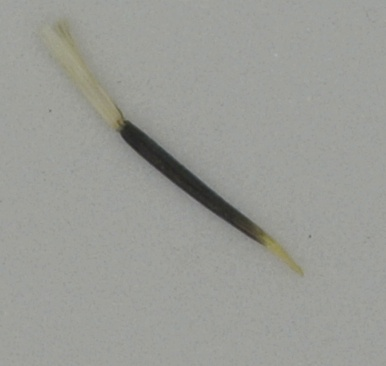เมล็ดดีเรียวยาว: (39, 13, 307, 282)
